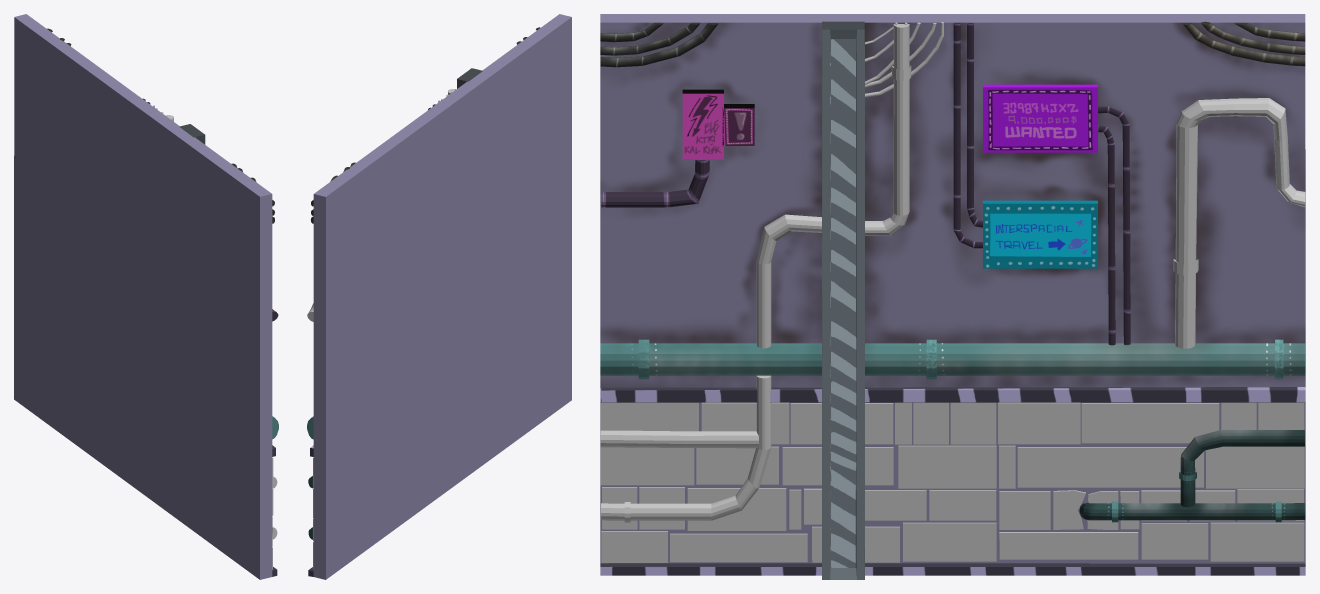
File: FutureWall.fbx
3 renders of one model, left to right at view 1: azimuth 30°, elevation 25°; view 2: azimuth 150°, elevation 25°; view 3: azimuth 270°, elevation 25°, orthographic. The views are drawn at different scales.
Parts seen in each view (by area): view 1: Cables.019; view 2: Cables.019; view 3: Cables.019.
Boxes of the visible parts, bbox=[...] form: Cables.019: bbox=[14, 14, 278, 579]; Cables.019: bbox=[307, 14, 571, 579]; Cables.019: bbox=[600, 14, 1305, 579].
Size of the model in its own units: 106 by 1722 by 1998.
